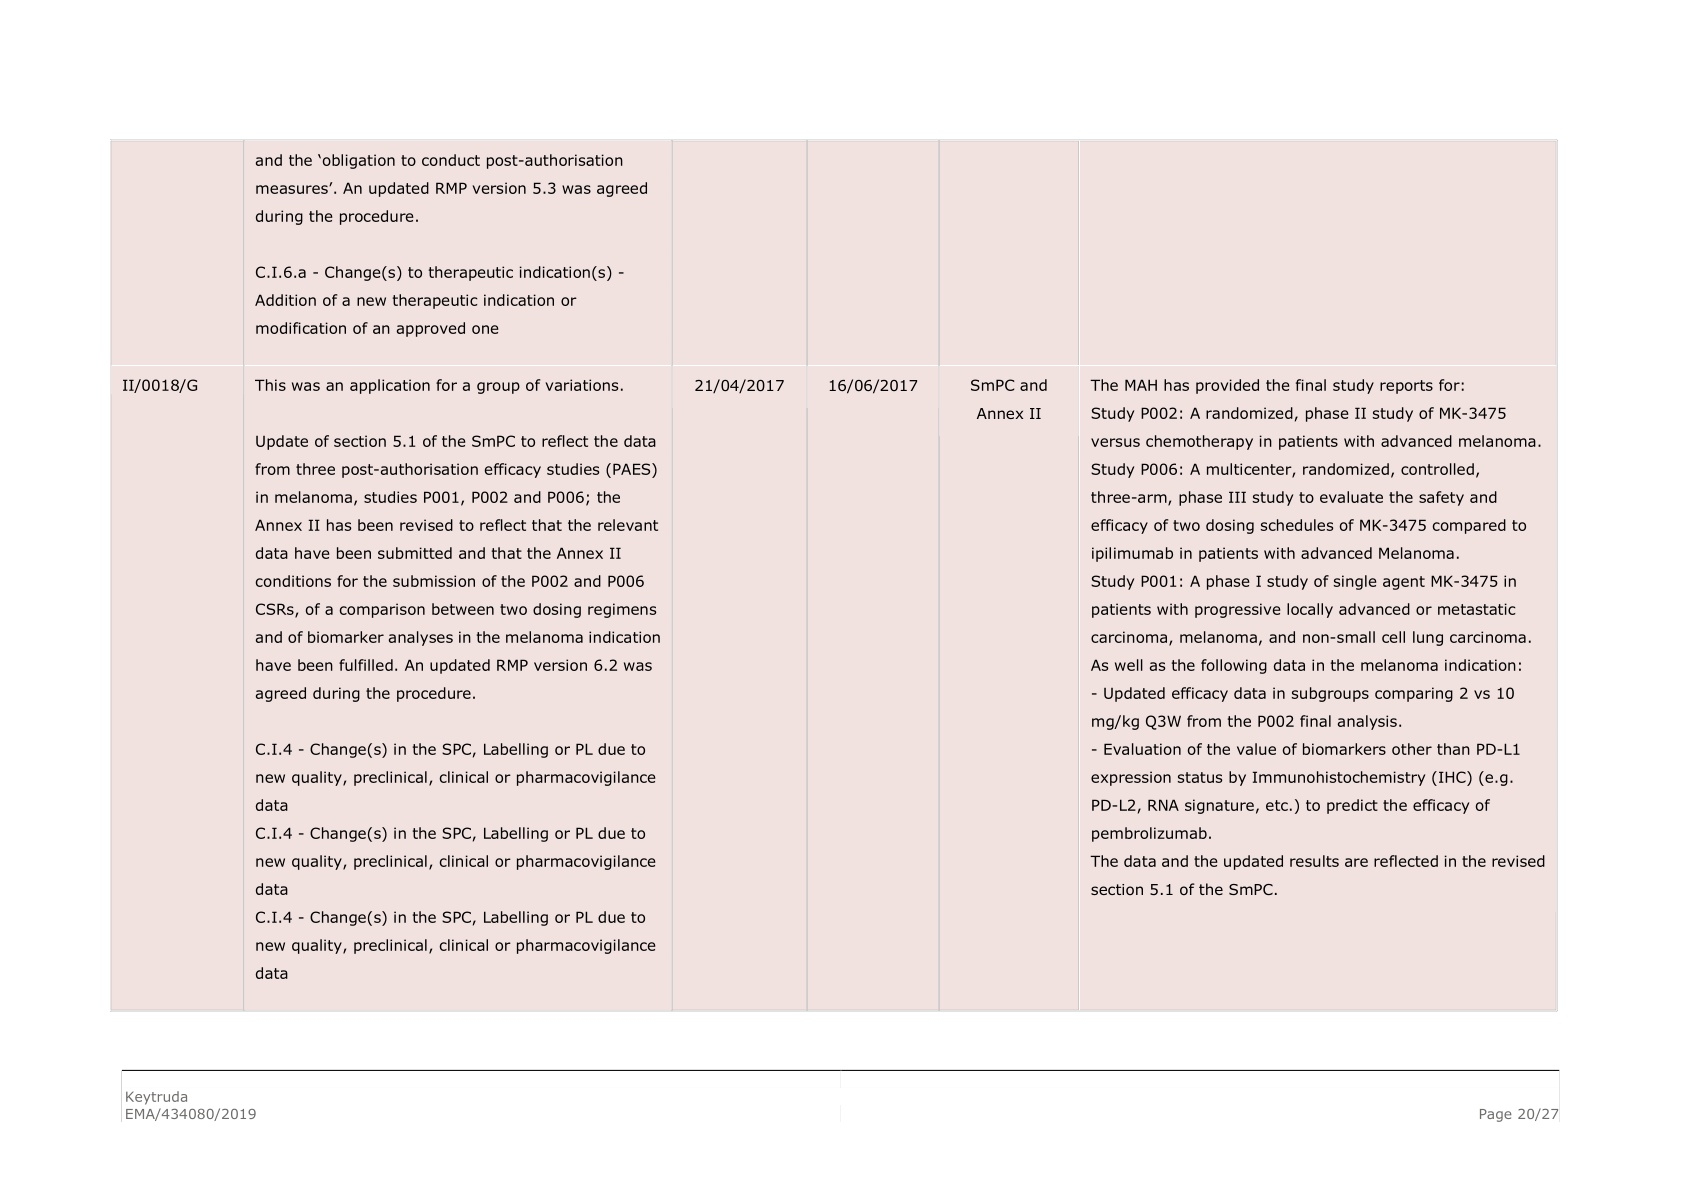full_lined: (109, 138, 1558, 1014)
